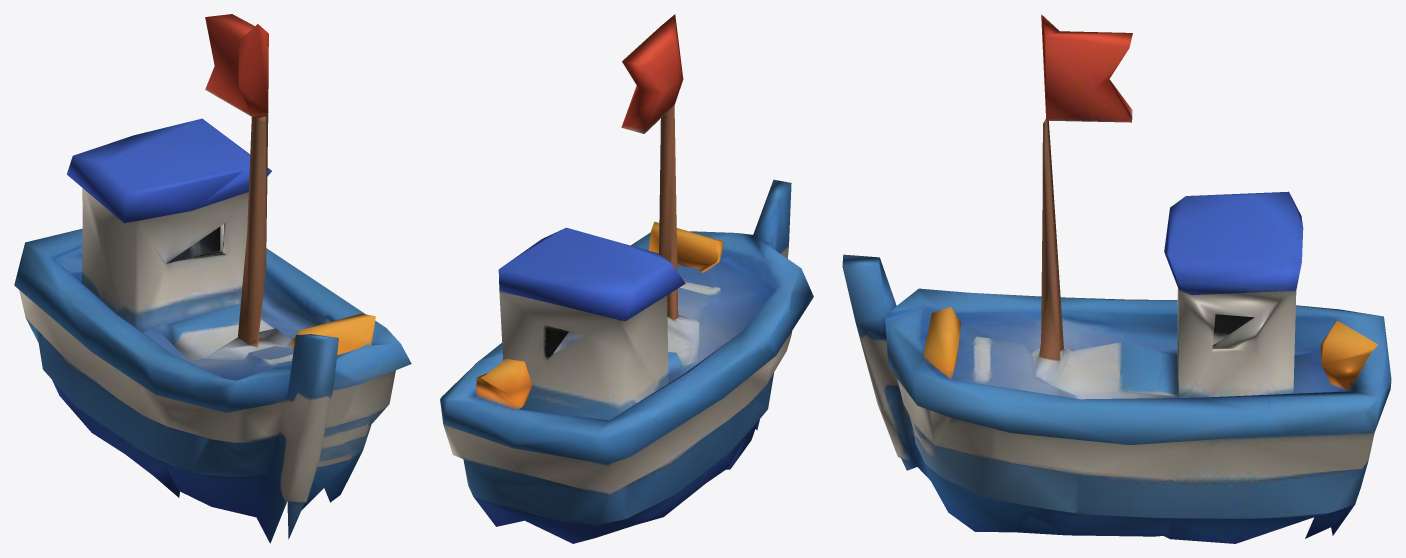
File: fishing.glb
The picture shows the model from 3 angles, left to right: view 1: azimuth 30°, elevation 25°; view 2: azimuth 150°, elevation 25°; view 3: azimuth 270°, elevation 25°; orthographic projection. The views are drawn at different scales.
Parts seen in each view (by area): view 1: tripo_node_a02ed44d-b437-4d36-afc5-ff586cff03a2; view 2: tripo_node_a02ed44d-b437-4d36-afc5-ff586cff03a2; view 3: tripo_node_a02ed44d-b437-4d36-afc5-ff586cff03a2.
Boxes of the visible parts, x1,y1,x2,y2 form: tripo_node_a02ed44d-b437-4d36-afc5-ff586cff03a2: (14, 14, 411, 543); tripo_node_a02ed44d-b437-4d36-afc5-ff586cff03a2: (440, 14, 813, 543); tripo_node_a02ed44d-b437-4d36-afc5-ff586cff03a2: (842, 14, 1391, 543).
Size of the model in its own units: 3 by 6.09 by 6.
Materials: 1 (1 with a texture image).
